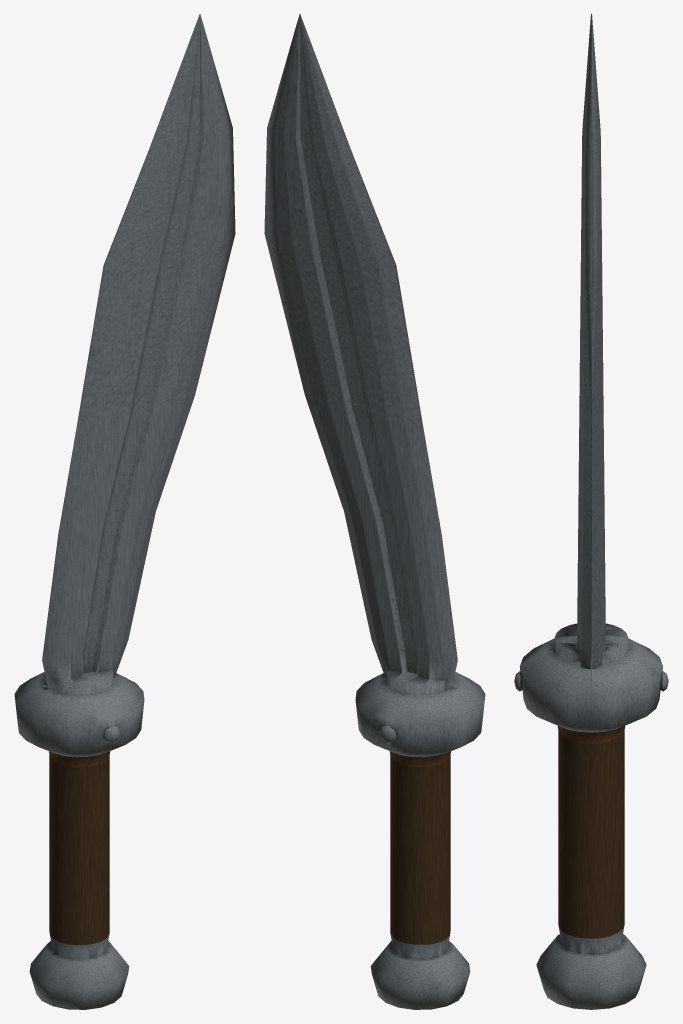
The model's file is knife-plain.glb.
3 renders of one model, left to right at view 1: azimuth 30°, elevation 25°; view 2: azimuth 150°, elevation 25°; view 3: azimuth 270°, elevation 25°, orthographic. The views are drawn at different scales.
Parts seen in each view (by area): view 1: knife-plain; view 2: knife-plain; view 3: knife-plain.
Part boxes in pixels (x1,y1,x2,y2): knife-plain: [14, 14, 235, 1009]; knife-plain: [264, 14, 485, 1009]; knife-plain: [514, 14, 668, 1009].
Bounding box in the file's own units: 0.1463 × 0.63 × 0.084.
1 material, 1 textured.
